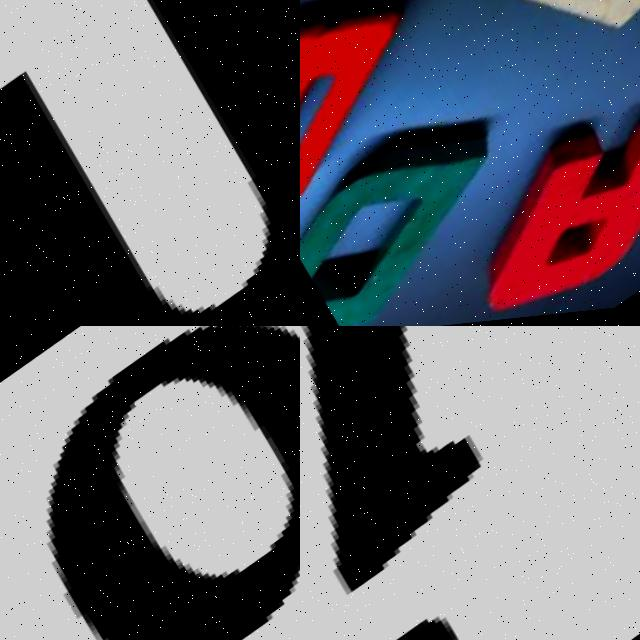6: (0, 326, 300, 640)
A: (443, 70, 640, 326)
D: (300, 72, 568, 326)
I: (300, 326, 640, 640)
N: (0, 0, 300, 326)
W: (300, 0, 466, 225)
